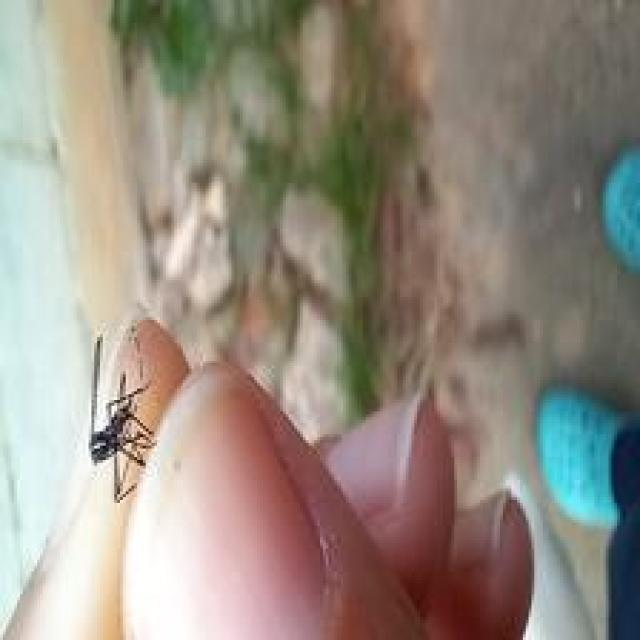Aedes albopictus: (87, 323, 159, 503)
